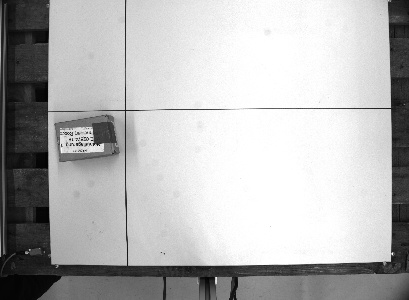b6: (51, 112, 121, 164)
